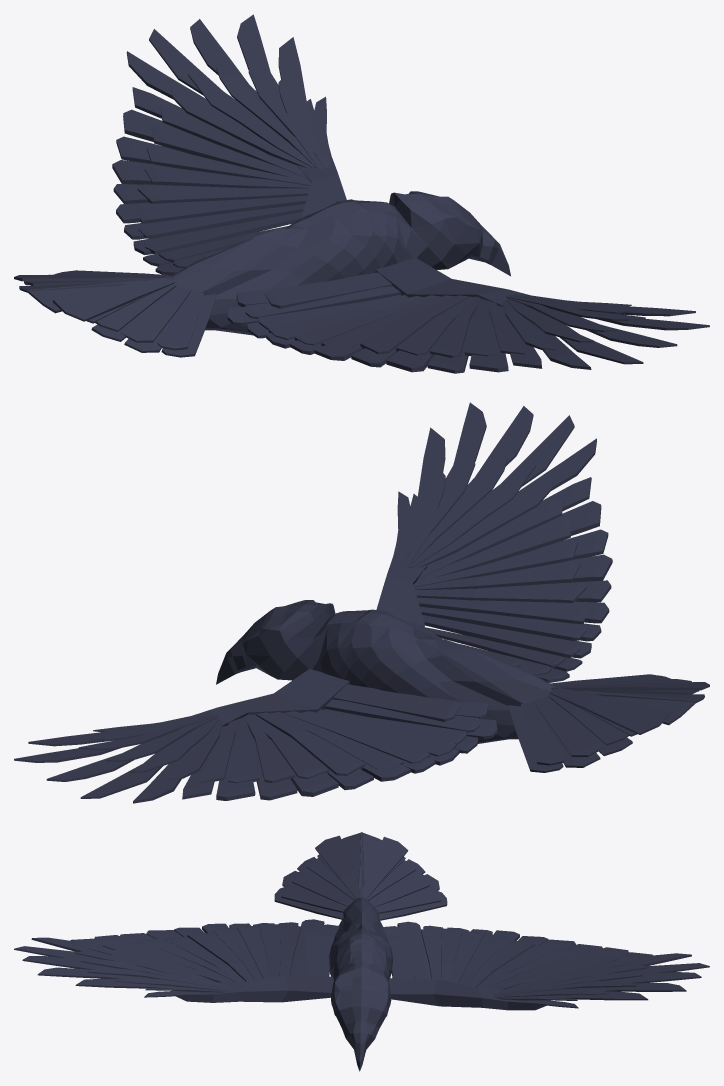
The model's file is crow_fly.glb.
3 views of the same model, one above another, from view 1: azimuth 30°, elevation 25°; view 2: azimuth 150°, elevation 25°; view 3: azimuth 270°, elevation 25° (orthographic). The views are drawn at different scales.
Parts seen in each view (by area): view 1: body, wing, feather_.017, feather_.027, feather_.034, feather_.025, feather_.023, feather_.028, feather_.024, tails_.003, feather_.026, feather_.022 (+28 smaller); view 2: body, wing, feather_.017, feather_.027, feather_.028, feather_.034, feather_.025, feather_.023, feather_.024, tails_.003, feather_.026, feather_.022 (+28 smaller); view 3: body, wing, tails_.003, feather_.033, feather_.017, feather_.002, feather_.028, feather_.001, feather_.025, feather_.027, feather_.023, feather_.034 (+29 smaller).
Boxes of the visible parts, left/top/right/bottom form: body: left=169, top=191, right=510, bottom=335; wing: left=297, top=145, right=529, bottom=306; feather_.017: left=137, top=184, right=469, bottom=354; feather_.027: left=135, top=196, right=455, bottom=349; feather_.034: left=138, top=204, right=440, bottom=345; feather_.025: left=152, top=124, right=496, bottom=356; feather_.023: left=144, top=165, right=473, bottom=355; feather_.028: left=144, top=213, right=423, bottom=339; feather_.024: left=147, top=145, right=481, bottom=357; tails_.003: left=14, top=275, right=175, bottom=321; feather_.026: left=160, top=105, right=524, bottom=354; feather_.022: left=188, top=66, right=594, bottom=342; body: left=216, top=600, right=555, bottom=743; wing: left=193, top=545, right=427, bottom=726; feather_.017: left=255, top=582, right=586, bottom=775; feather_.027: left=269, top=598, right=589, bottom=769; feather_.028: left=301, top=616, right=580, bottom=756; feather_.034: left=283, top=607, right=586, bottom=763; feather_.025: left=228, top=517, right=571, bottom=783; feather_.023: left=251, top=561, right=580, bottom=778; feather_.024: left=244, top=539, right=577, bottom=783; tails_.003: left=549, top=682, right=709, bottom=734; feather_.026: left=200, top=497, right=563, bottom=782; feather_.022: left=129, top=457, right=535, bottom=772; body: left=329, top=897, right=393, bottom=1071; wing: left=172, top=975, right=550, bottom=1010; tails_.003: left=315, top=835, right=408, bottom=898; feather_.033: left=307, top=932, right=414, bottom=978; feather_.017: left=187, top=932, right=534, bottom=987; feather_.002: left=292, top=868, right=430, bottom=907; feather_.028: left=259, top=924, right=462, bottom=981; feather_.001: left=281, top=884, right=440, bottom=913; feather_.025: left=122, top=941, right=600, bottom=988; feather_.027: left=213, top=928, right=509, bottom=985; feather_.023: left=166, top=937, right=556, bottom=987; feather_.034: left=237, top=926, right=484, bottom=983.
Size of the model in its own units: 7.7 by 1.89 by 13.55.
